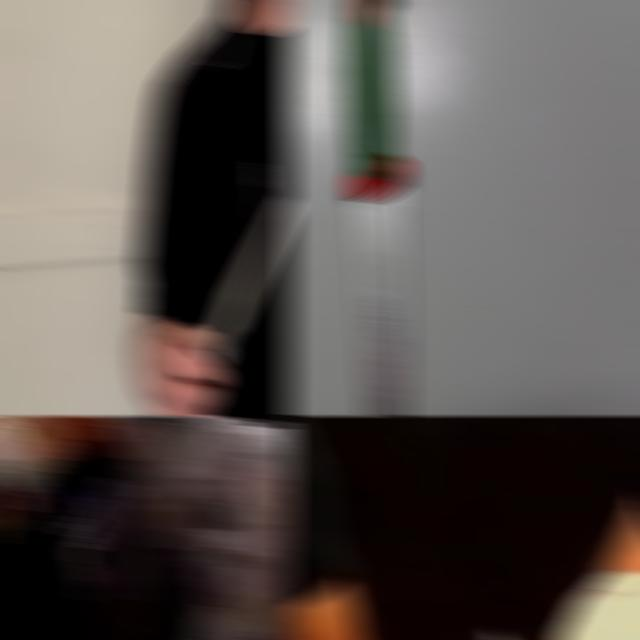Knife: (344, 0, 409, 416)
Knife_Handle: (0, 416, 245, 616), (142, 195, 294, 416)
